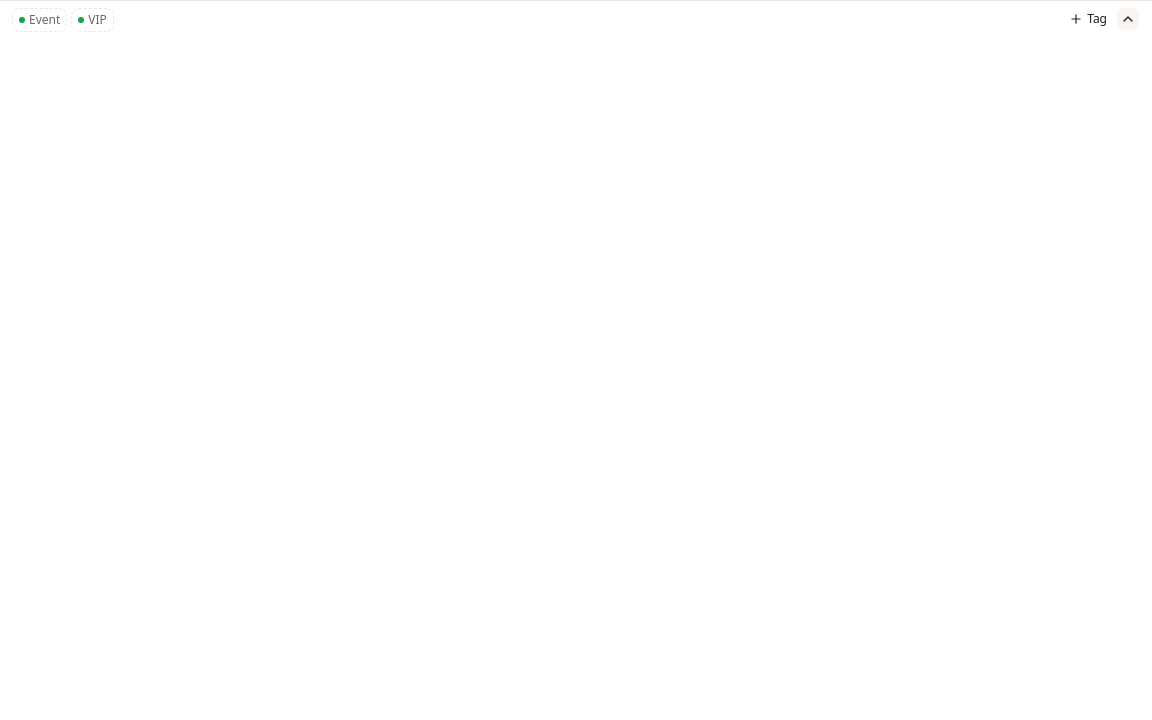
Test: conversation attribute tags › asks for required values and sends zero and false without dropping them
Click the button with aria-label "Gắn tag Event". click: (40, 20)
box: [12,8,67,32]
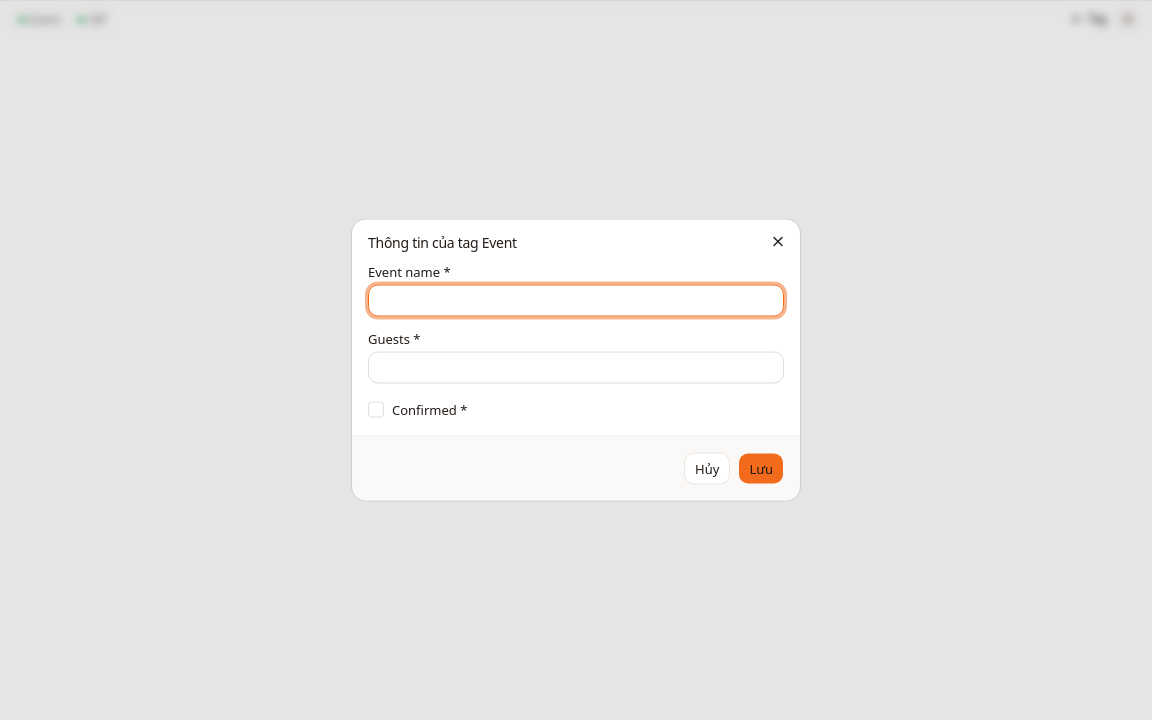
Type "Opening" into the field labelled "Event name *". click: (576, 300)
box: [368,284,784,316]
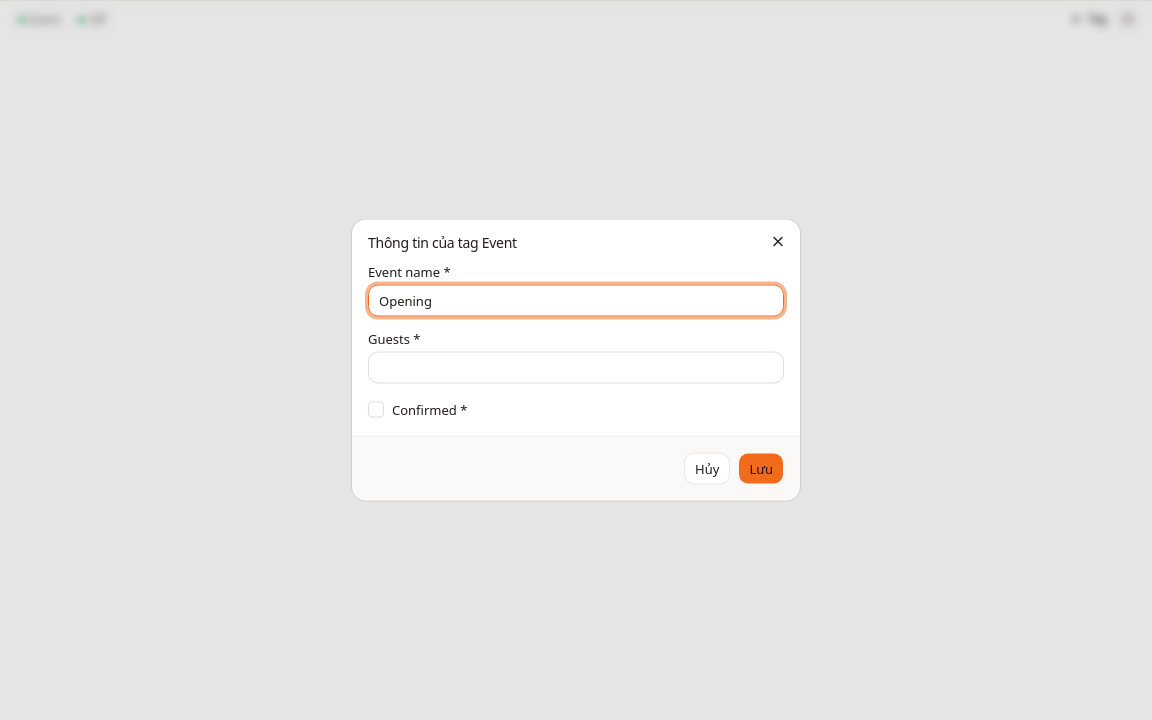
Type "0" into the number field labelled "Guests *". click: (576, 368)
box: [368,352,784,384]
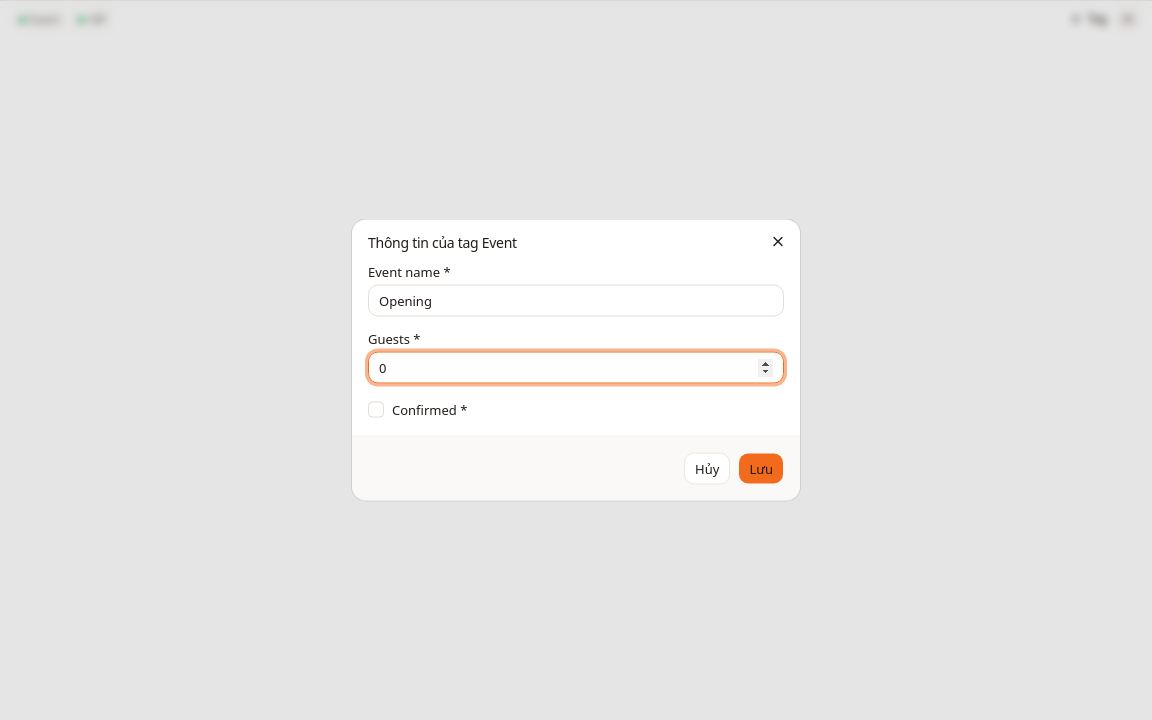
Click the button "Lưu". click: (761, 468)
box: [738,452,784,484]
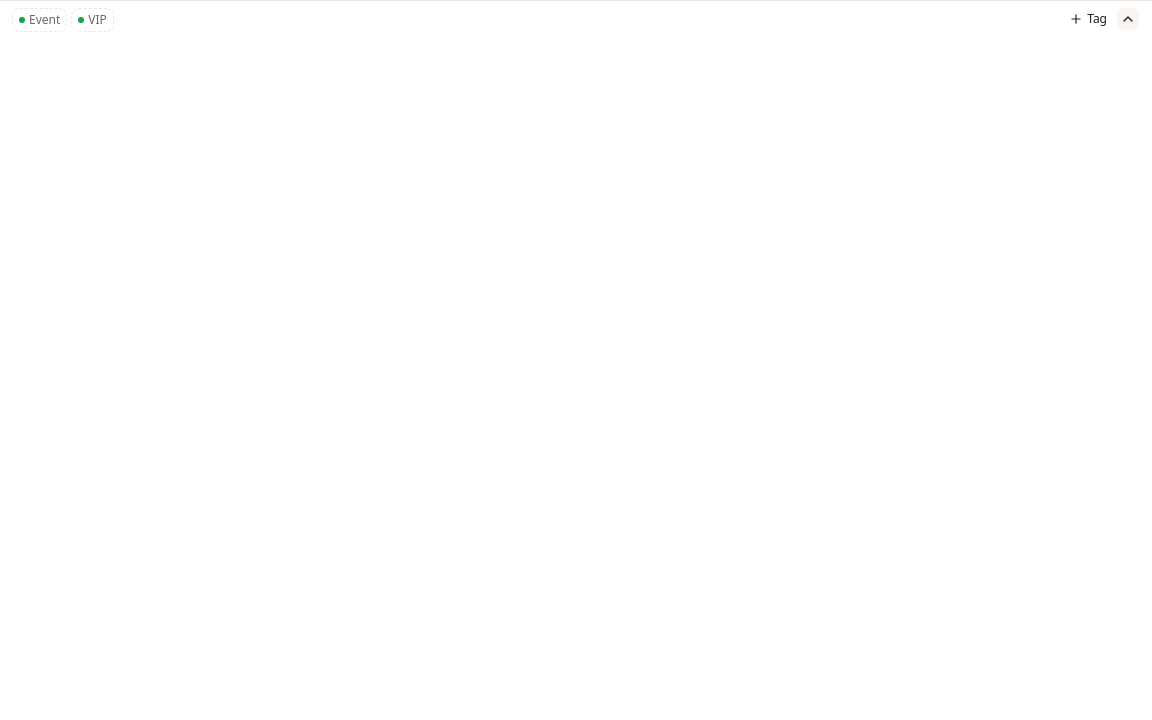
Expected: the dialog is gone
